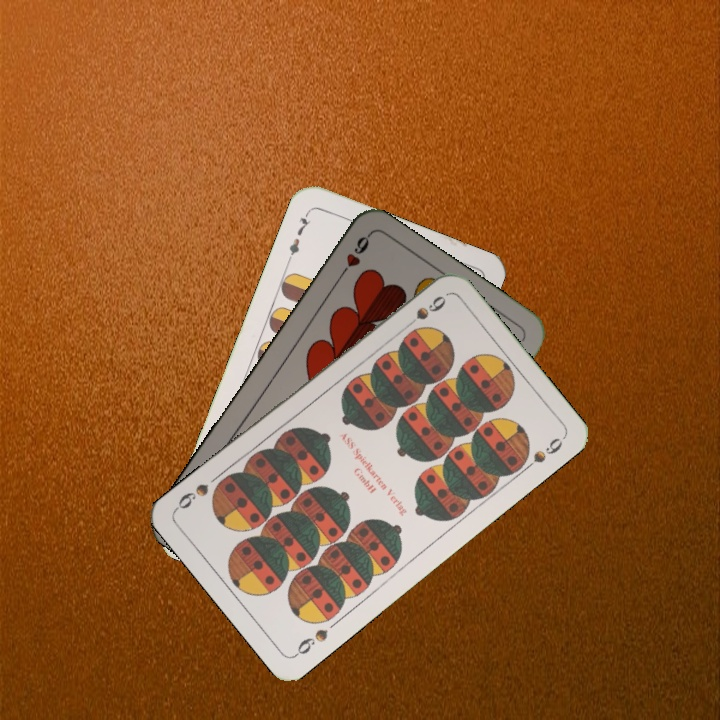E7: (283, 208, 312, 264)
H9: (334, 230, 373, 283)
S9: (399, 291, 449, 333), (290, 624, 331, 660)
